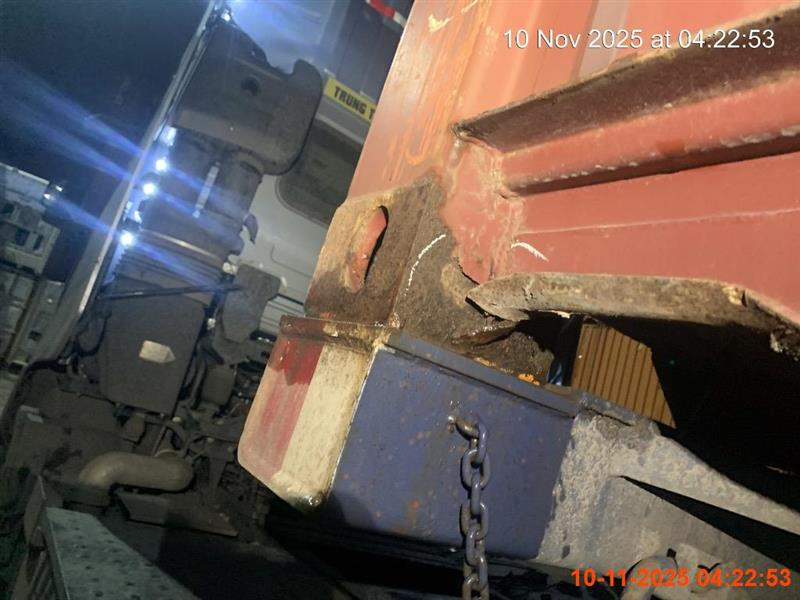hole: (231, 1, 798, 598)
